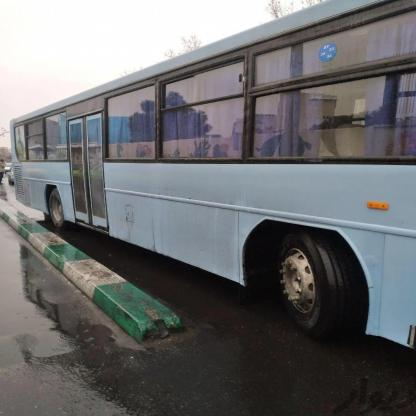Bus: (0, 0, 416, 350)
